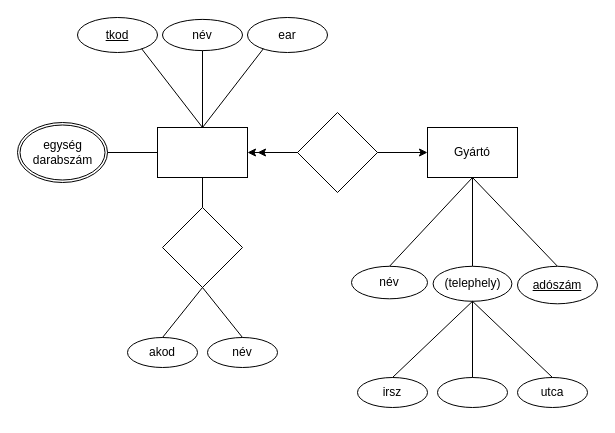
Image size: 615x433. Some labels were removed from this diagram. Here are the shapes that lost their labels. From the top down, the box of each, then its label:
(156, 126, 248, 178): Termék
(296, 112, 378, 192): T_GY
(162, 206, 242, 288): összeállítás
(436, 376, 508, 408): varos
